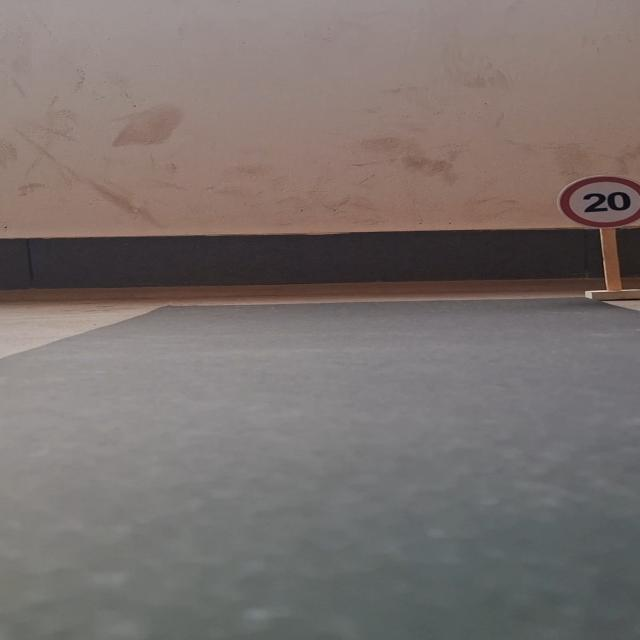Speed20: (555, 172, 640, 232)
